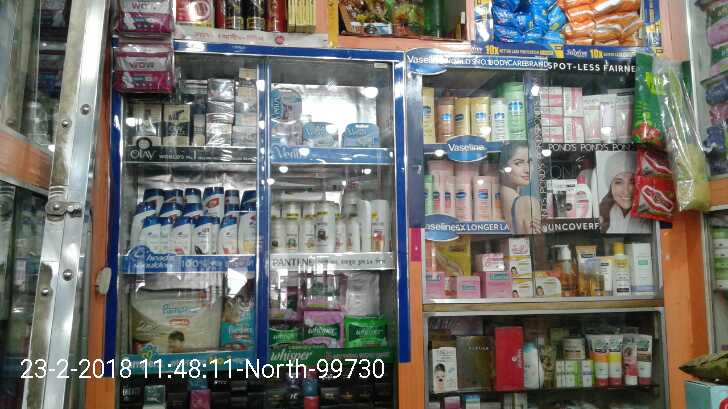venus: (270, 88, 298, 149), (345, 122, 379, 146), (303, 124, 339, 146)
